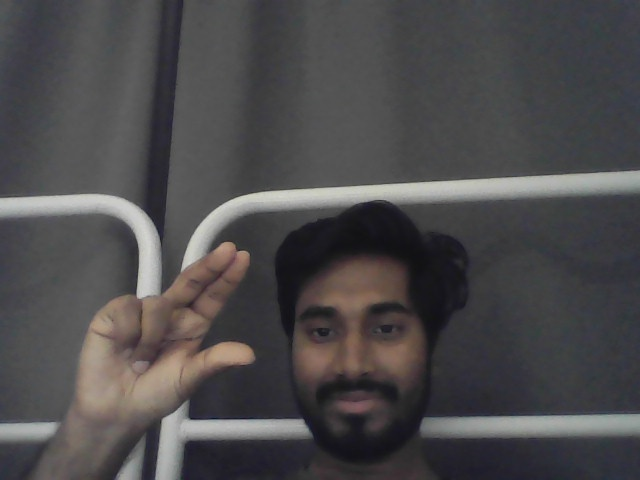no: (73, 242, 257, 426)
